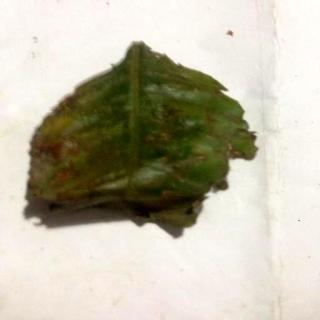Red Leaf Spot: (31, 43, 257, 228)
